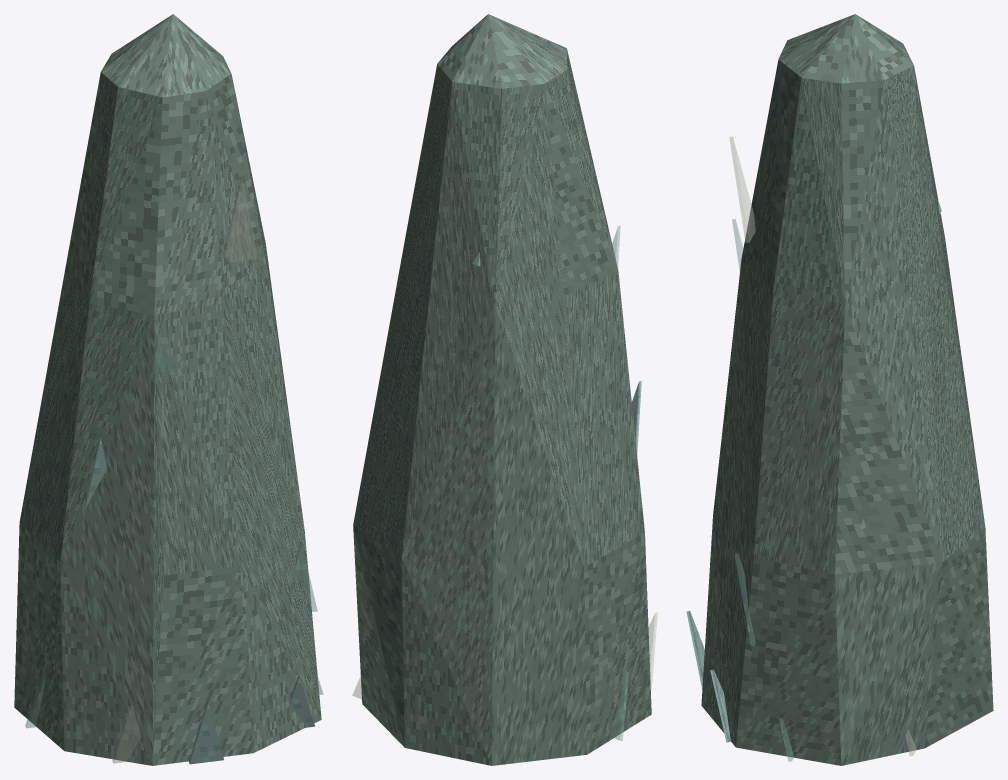
Rendered from f_glass_mound_tall.glb.
3 renders of one model, left to right at view 1: azimuth 30°, elevation 25°; view 2: azimuth 150°, elevation 25°; view 3: azimuth 270°, elevation 25°, orthographic.
Visible parts, largest first — view 1: block_heaped-glass, block_jutting-shard (×6); view 2: block_heaped-glass; view 3: block_heaped-glass, block_jutting-shard (×4).
Part boxes in pixels (x1,y1,x2,y2): block_heaped-glass: (14,14,321,765); block_jutting-shard (×6): (85,175,315,764); block_heaped-glass: (353,14,651,765); block_heaped-glass: (701,14,993,765); block_jutting-shard (×4): (686,136,755,742).
Bounding box in the file's own units: 0.858 × 2.1 × 0.8473.
3 materials, 3 textured.
